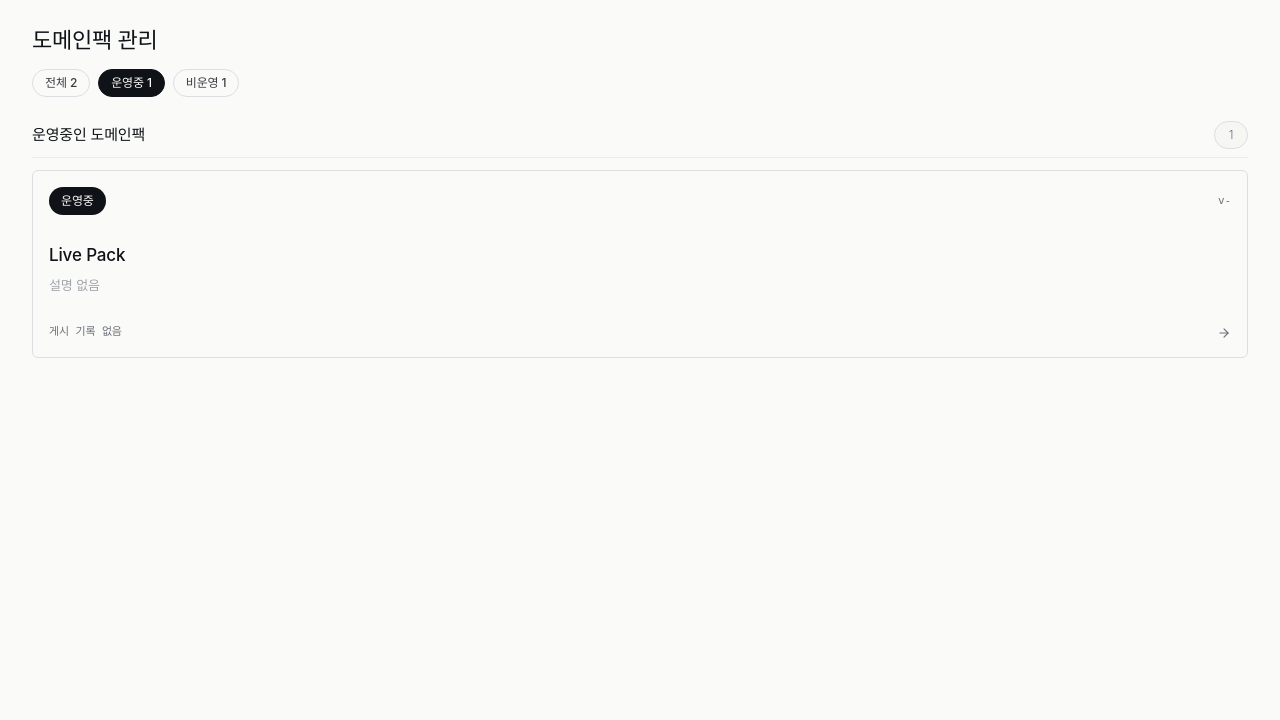
Test case: DomainPackListPage › 전체 필터를 선택하면 운영중과 비운영 도메인팩을 모두 표시한다
Click the button "전체 2" at (61, 83), box [32, 69, 90, 97]
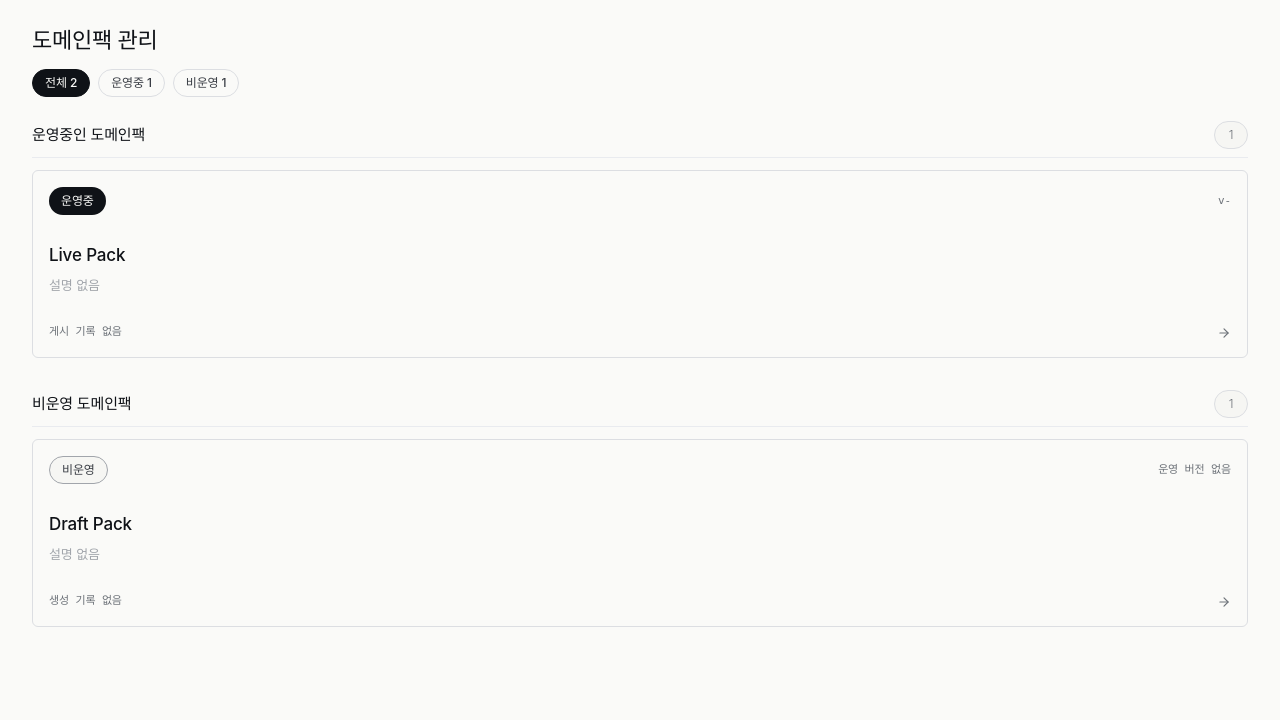
Expected: the heading "Live Pack" is shown, [49, 245, 125, 265]
Expected: the heading "Draft Pack" is shown, [49, 514, 132, 534]
Expected: the heading "비운영 도메인팩" is shown, [32, 393, 132, 415]
